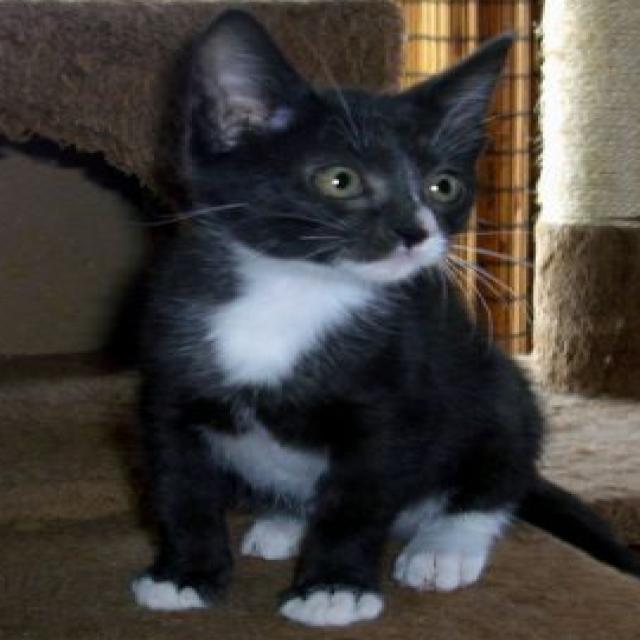Tuxedo: (123, 7, 640, 626)
